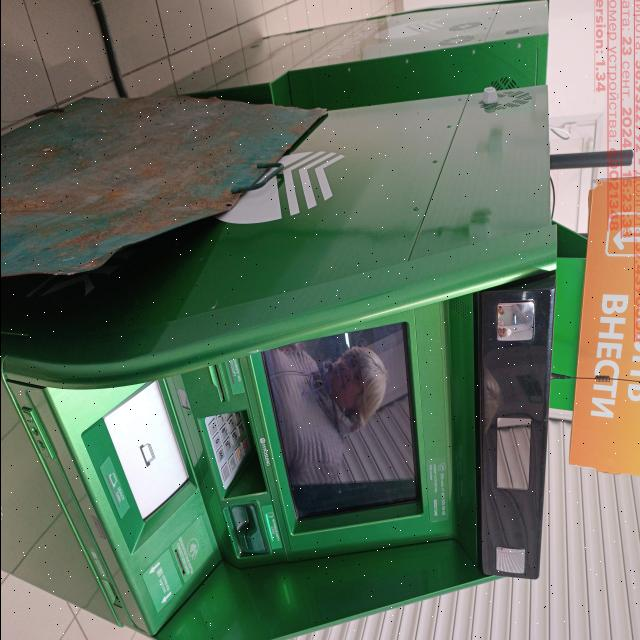bank: (0, 83, 640, 640), (158, 0, 552, 121)
